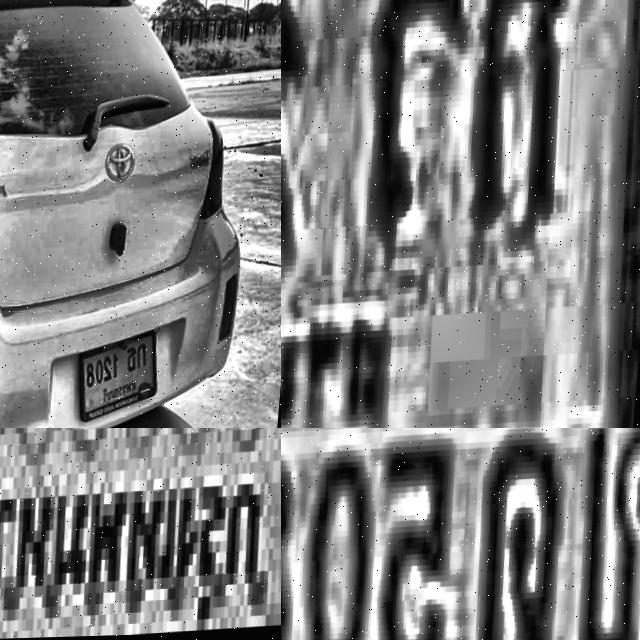license-plate: (281, 0, 640, 428), (281, 428, 640, 640), (0, 428, 281, 640), (72, 329, 177, 428)
